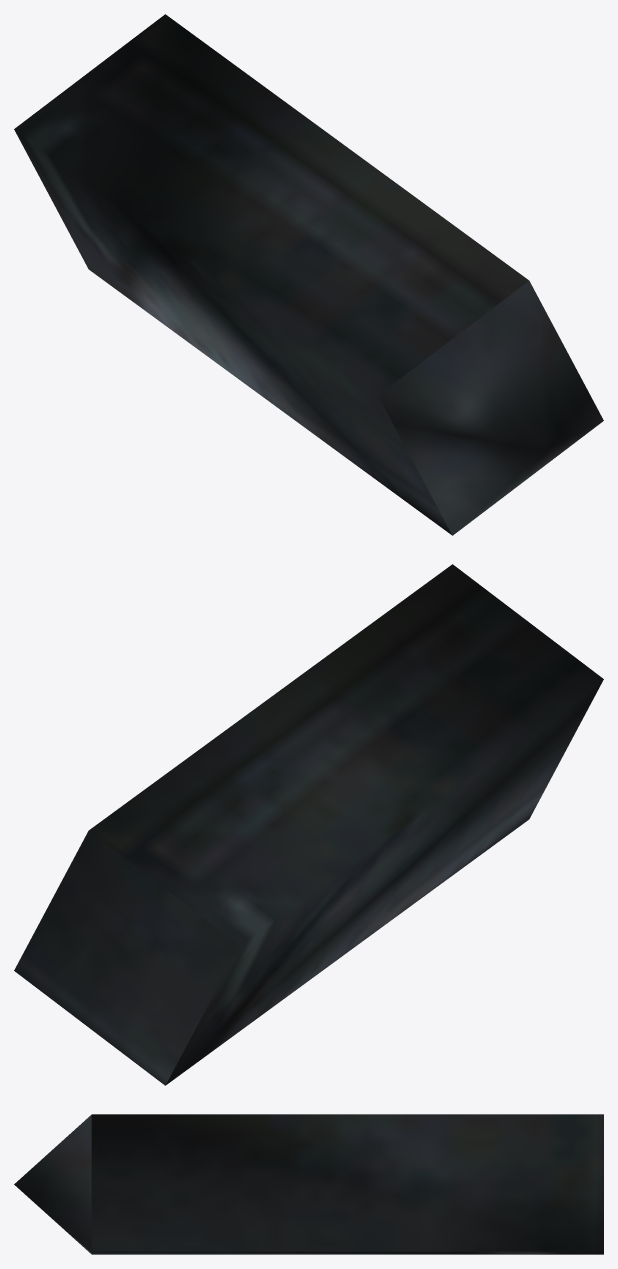
The model's file is Assault_Rifle_M12_01_dj_lod1_Body_LOD_(000465).glb.
3 renders of one model, top to bottom at view 1: azimuth 30°, elevation 25°; view 2: azimuth 150°, elevation 25°; view 3: azimuth 270°, elevation 25°, orthographic. The views are drawn at different scales.
Parts seen in each view (by area): view 1: M12_01_dj_lod1; view 2: M12_01_dj_lod1; view 3: M12_01_dj_lod1.
Part boxes in pixels (box(x1,y1,x2,y2)): M12_01_dj_lod1: box(14, 14, 603, 535); M12_01_dj_lod1: box(14, 564, 603, 1085); M12_01_dj_lod1: box(14, 1114, 603, 1254).
Bounding box in the file's own units: 0.0348 × 0.0348 × 0.1116.
Materials: 1 (1 with a texture image).
